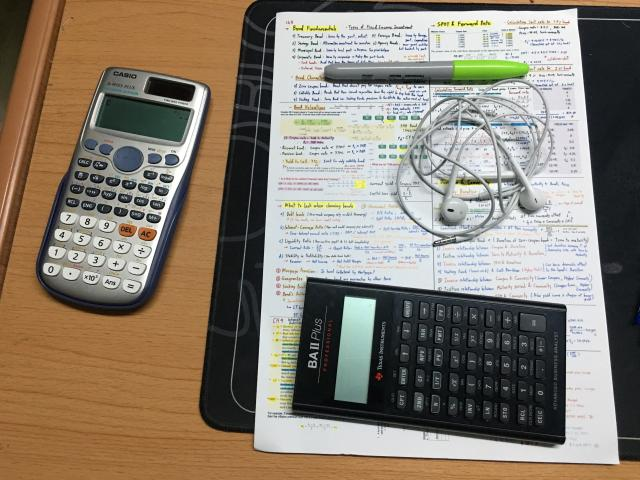Pen: (324, 60, 529, 82)
paper: (255, 9, 619, 464)
wire: (396, 78, 554, 246)
